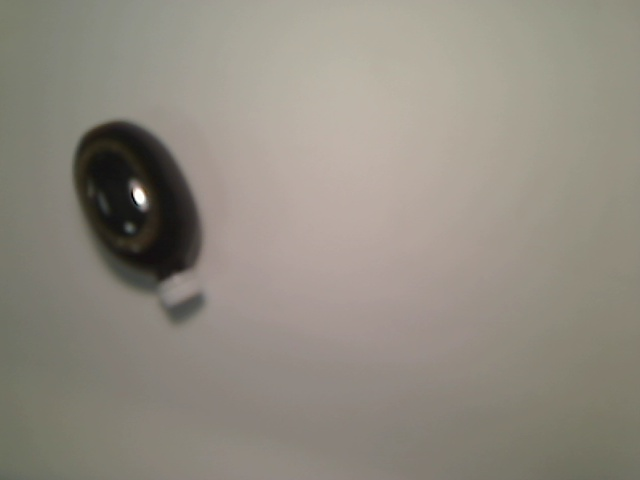plast_bottle: (72, 118, 206, 312)
